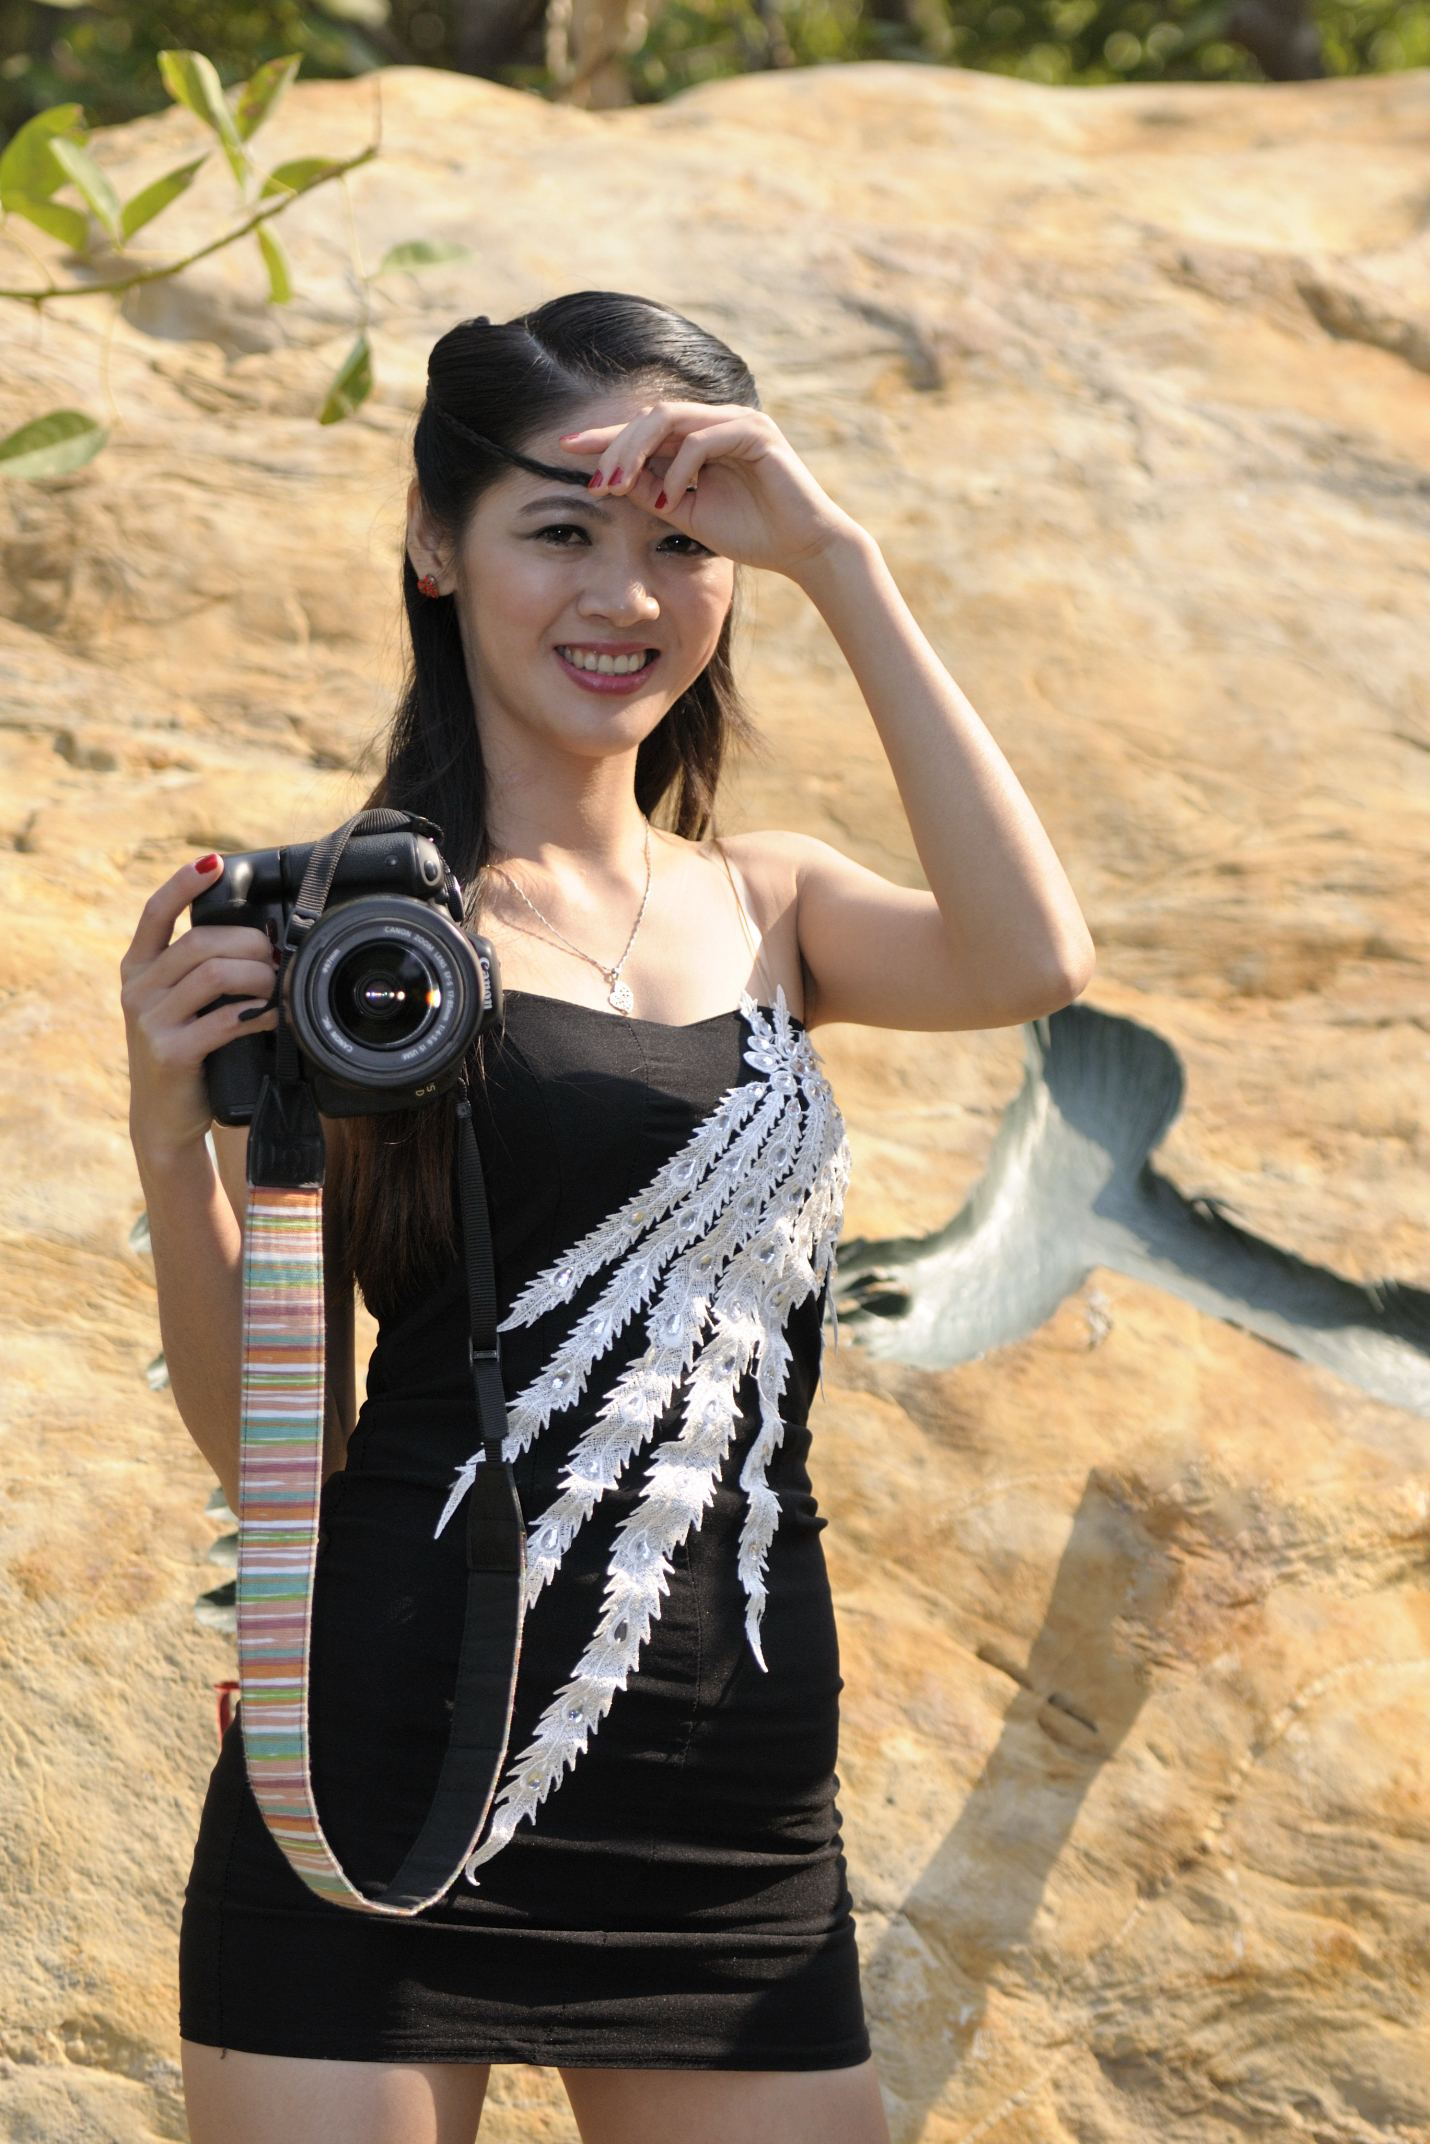person: (89, 285, 884, 1944)
